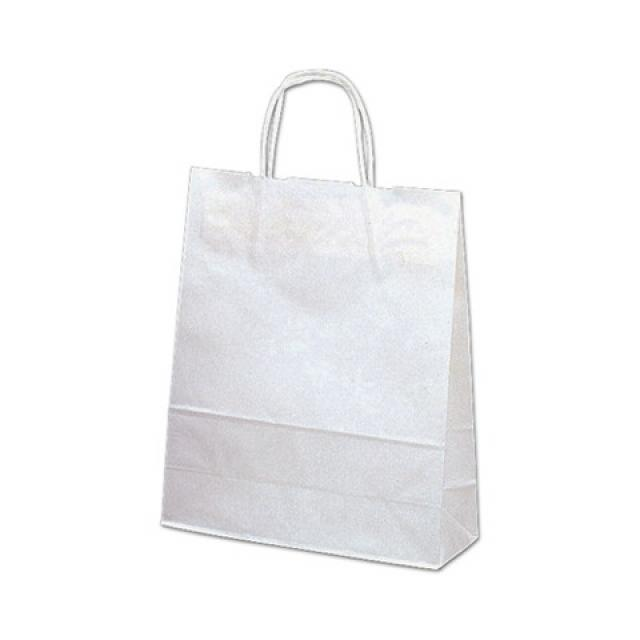paper bag: (154, 66, 485, 576)
